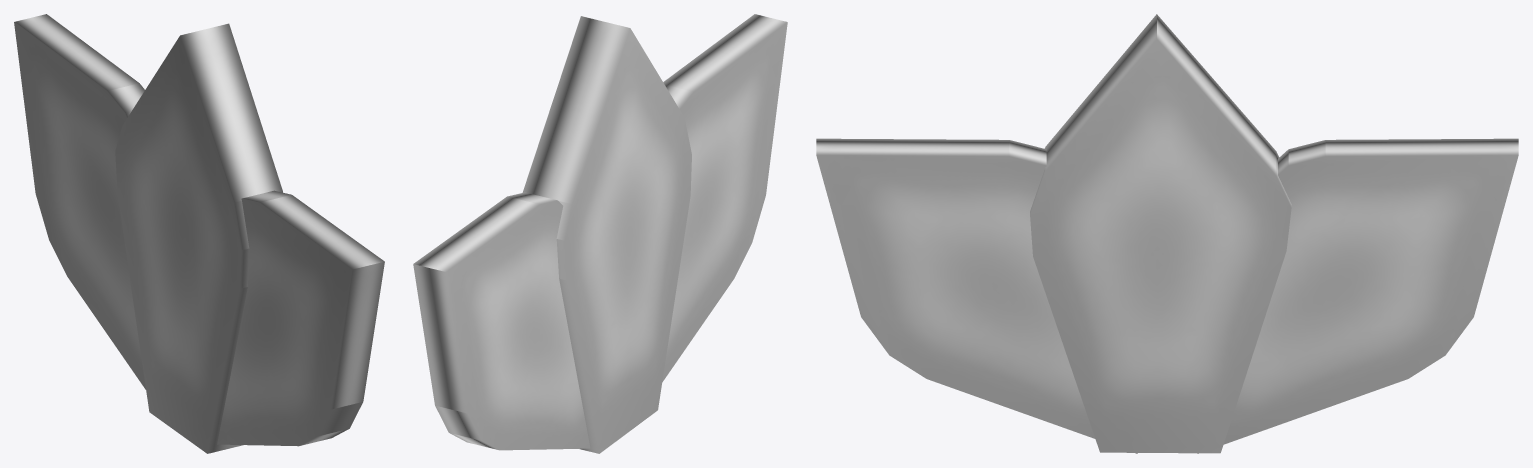
The model's file is Deco_a.fbx.
The picture shows the model from 3 angles, left to right: view 1: azimuth 30°, elevation 25°; view 2: azimuth 150°, elevation 25°; view 3: azimuth 270°, elevation 25°; orthographic projection. The views are drawn at different scales.
Parts seen in each view (by area): view 1: pPlane6; view 2: pPlane6; view 3: pPlane6.
Boxes of the visible parts, bbox=[...] form: pPlane6: bbox=[14, 14, 384, 453]; pPlane6: bbox=[413, 14, 787, 453]; pPlane6: bbox=[816, 14, 1518, 453].
Bounding box in the file's own units: 0.1815 × 1.43 × 2.17.
